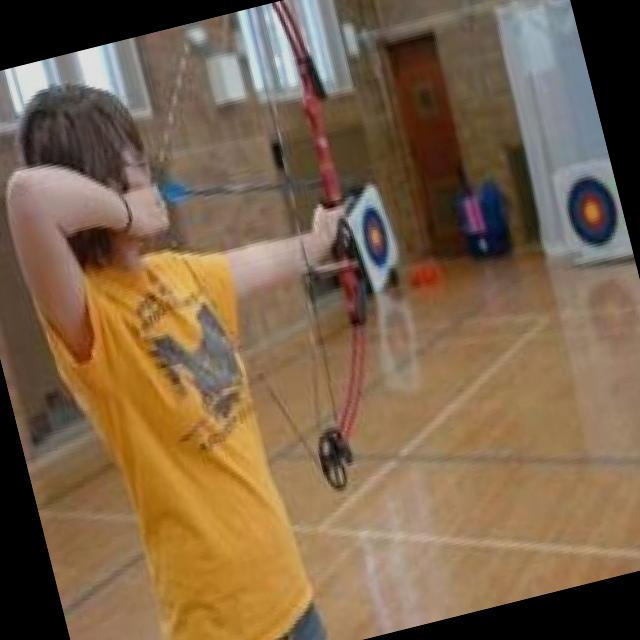no_vest: (13, 193, 366, 640)
